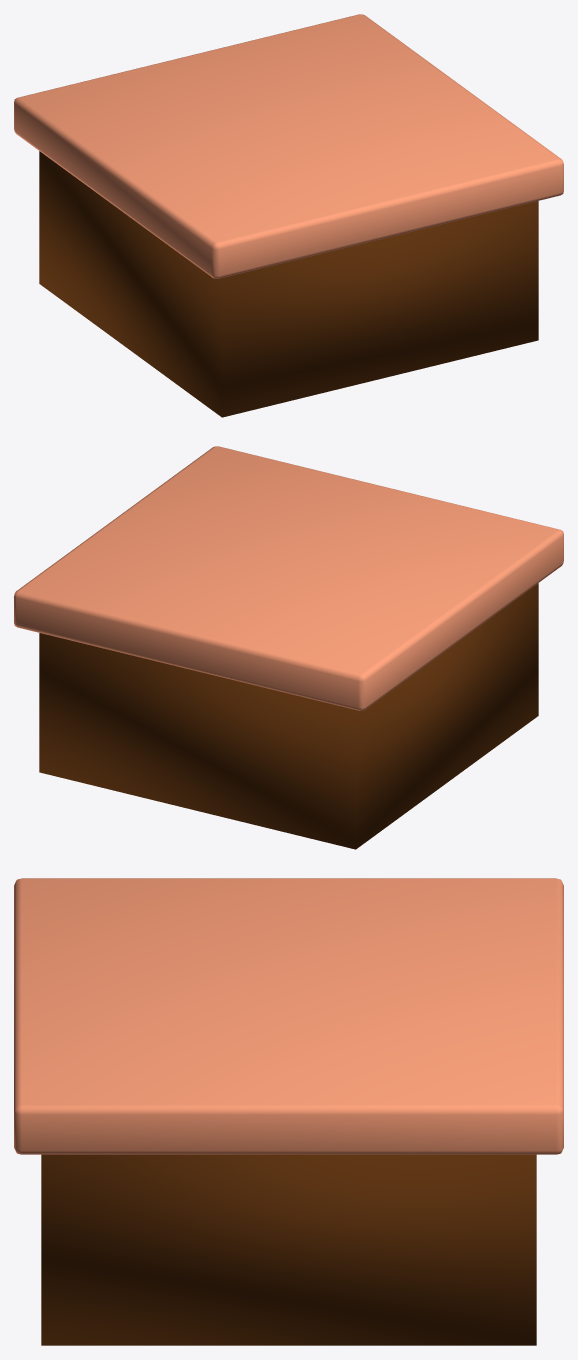
File: counterNoHandle.glb
3 views of the same model, one above another, from view 1: azimuth 30°, elevation 25°; view 2: azimuth 150°, elevation 25°; view 3: azimuth 270°, elevation 25° (orthographic). The views are drawn at different scales.
Visible parts, largest first — view 1: Basic_Cabinet_No_Handle; view 2: Basic_Cabinet_No_Handle; view 3: Basic_Cabinet_No_Handle.
Part boxes in pixels (x1,y1,x2,y2): Basic_Cabinet_No_Handle: [14, 14, 563, 417]; Basic_Cabinet_No_Handle: [14, 446, 563, 849]; Basic_Cabinet_No_Handle: [14, 878, 563, 1345].
Size of the model in its own units: 1 by 0.5 by 1.
